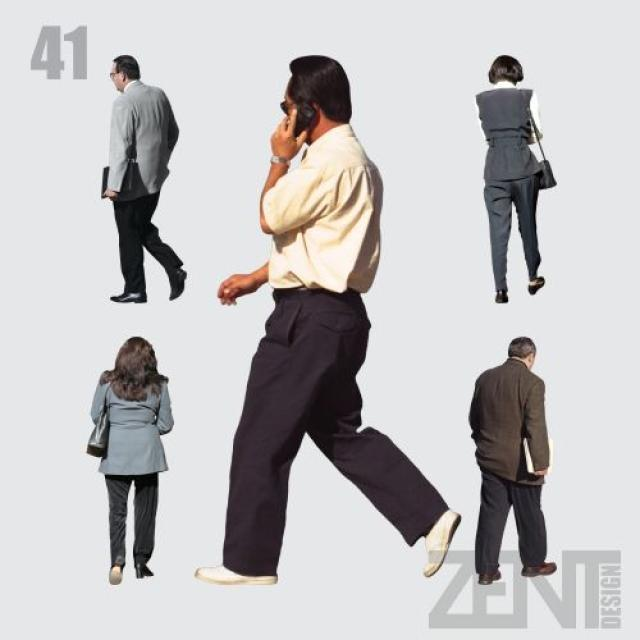person: (193, 54, 462, 585), (467, 335, 557, 585), (100, 54, 187, 304), (87, 335, 174, 585), (474, 54, 546, 304)
